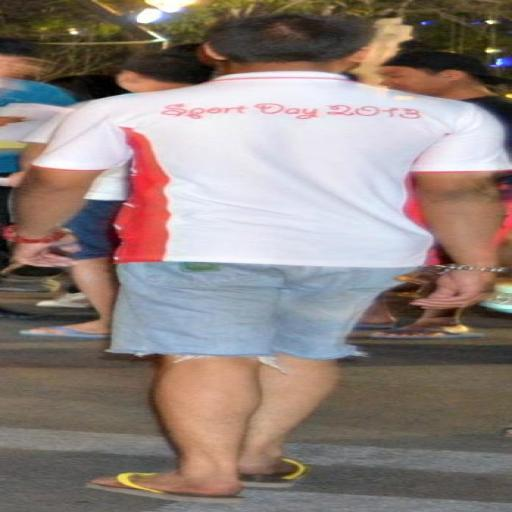person: (6, 15, 509, 502), (21, 165, 127, 338), (380, 51, 511, 151)
